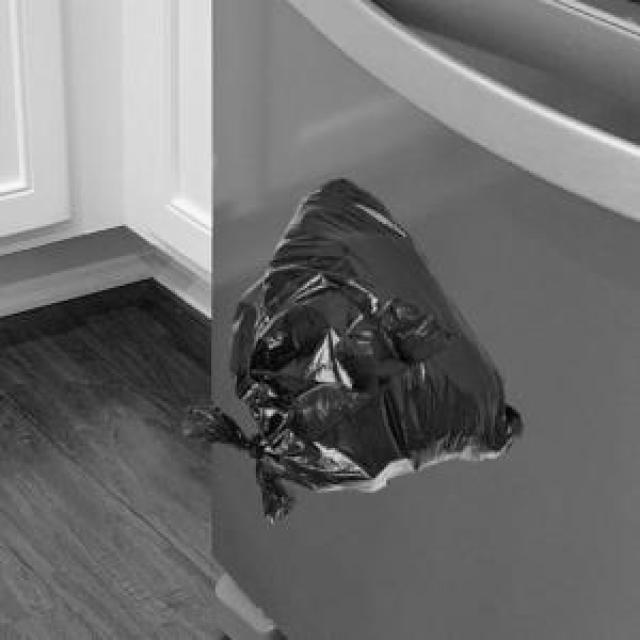miscellaneous trash: (177, 175, 518, 518), (284, 294, 457, 440)
